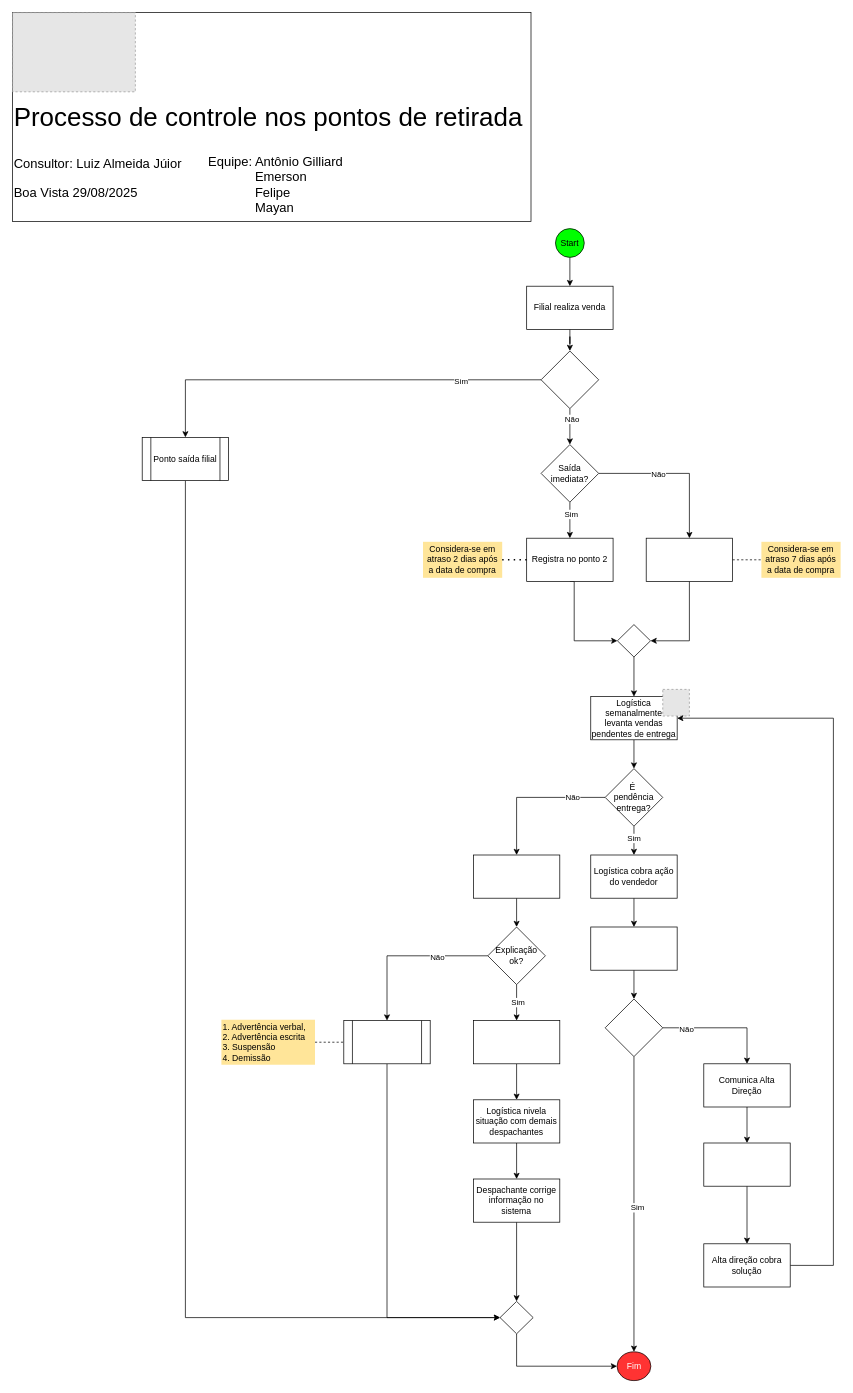
This 853x1393 diagram has some shape labels left out. Grey dashed boxes stand in for pictures. Here are the shapes that lost their labels. From the top down, the centre of each, then its label:
At point 569,379: "Saída Filial?".
At point 689,559: "Registra no ponto W".
At point 516,876: "Logística cobra explicação de despachante".
At point 633,948: "Logística comunica a gerente".
At point 386,1042: "Processo Disciplinar".
At point 516,1042: "Logistica resolve/suporte solução problemas".
At point 633,1027: "Solução ok?".
At point 746,1164: "Convoca gerente a prestar explicações".
